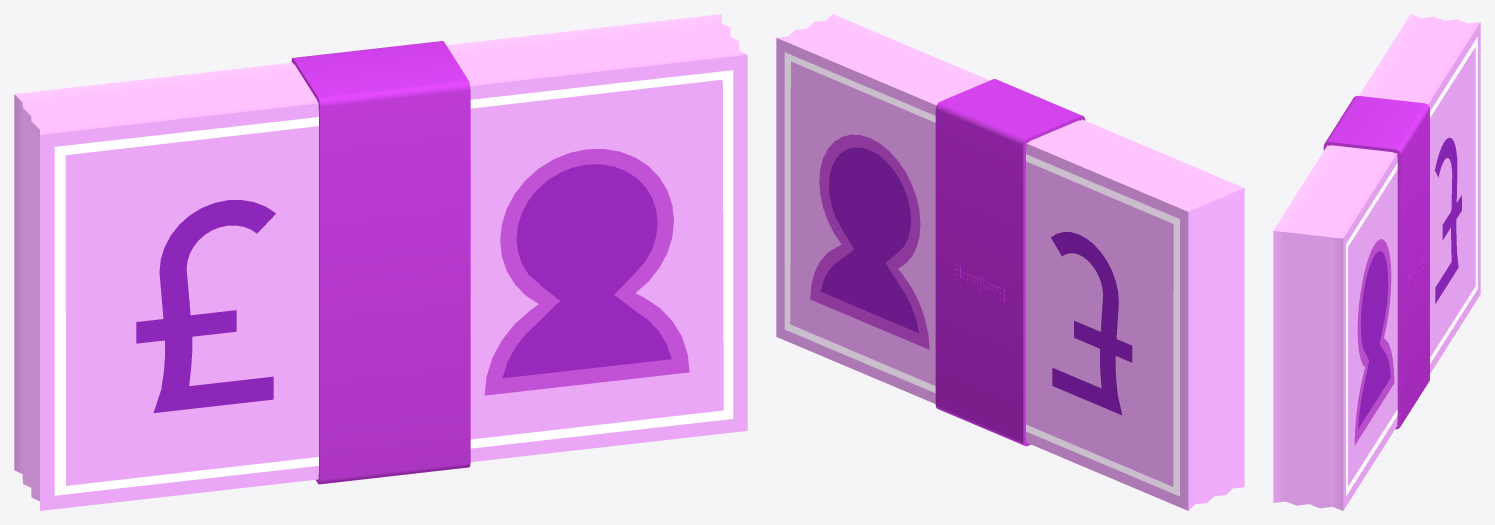
The model's file is pound_banknote.gltf.
3 views of the same model, side by side, from view 1: azimuth 30°, elevation 25°; view 2: azimuth 150°, elevation 25°; view 3: azimuth 270°, elevation 25° (orthographic). The views are drawn at different scales.
Visible parts, largest first — view 1: Cube.958; view 2: Cube.958; view 3: Cube.958.
Boxes of the visible parts, <box> form: Cube.958: <box>14,14,747,510</box>; Cube.958: <box>776,14,1244,510</box>; Cube.958: <box>1273,14,1480,510</box>.
Bounding box in the file's own units: 2.2 × 1.28 × 0.8586.
1 material, 1 textured.
